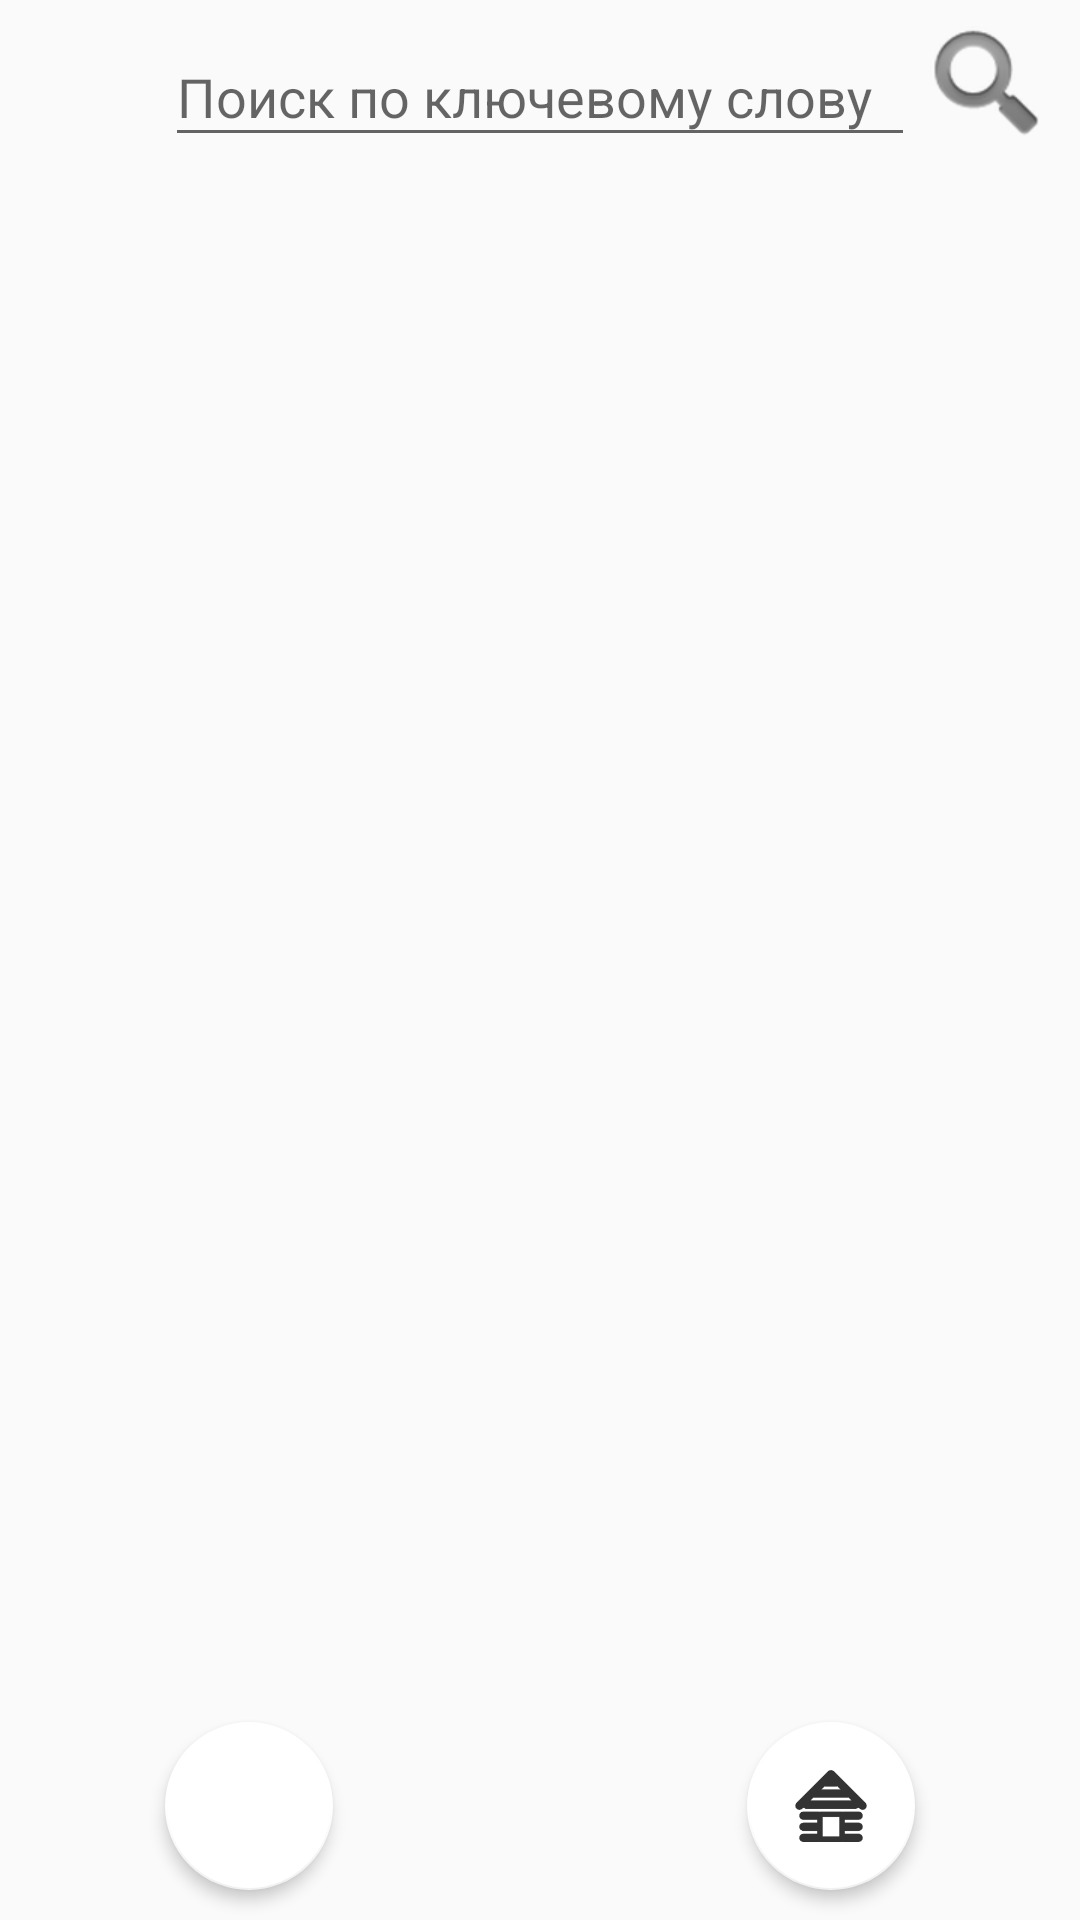

Named icons in this screenshot (1080 x 1920) and their bounding boxes, (x1, y1, x2, y2):
home page: (753, 1770, 867, 1843)
Search: (934, 30, 1038, 134)
